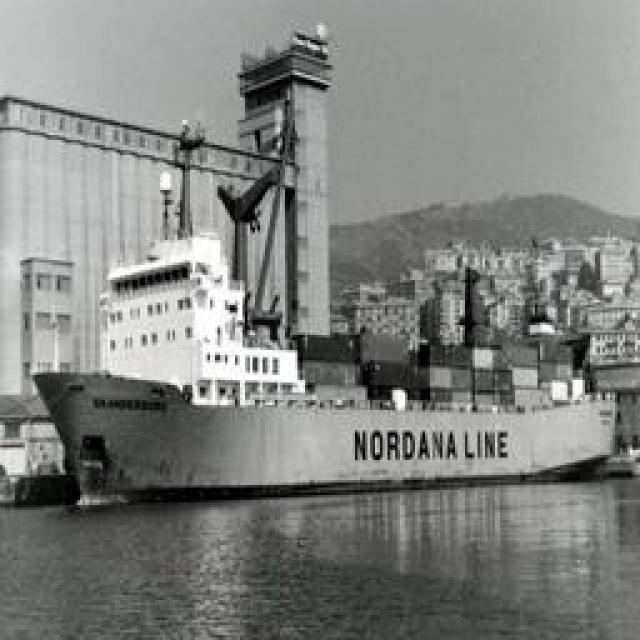Ship: (30, 369, 625, 509)
